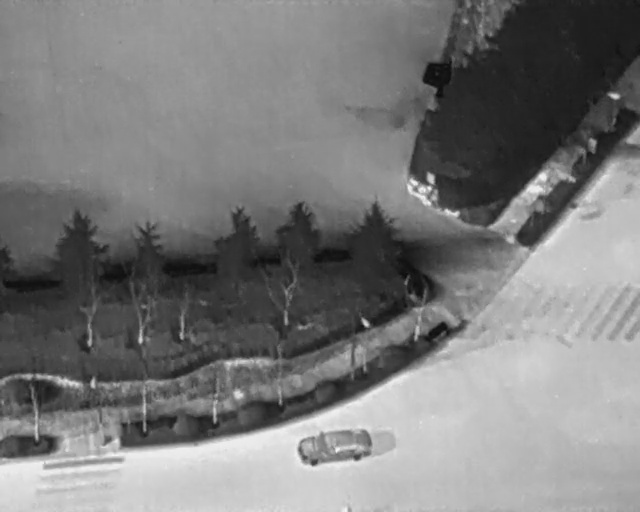Car: (295, 423, 375, 469)
